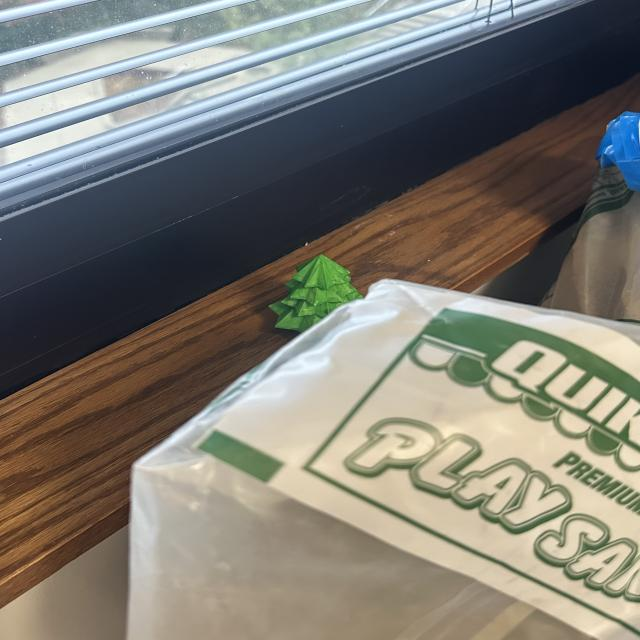tree: (266, 251, 365, 334)
